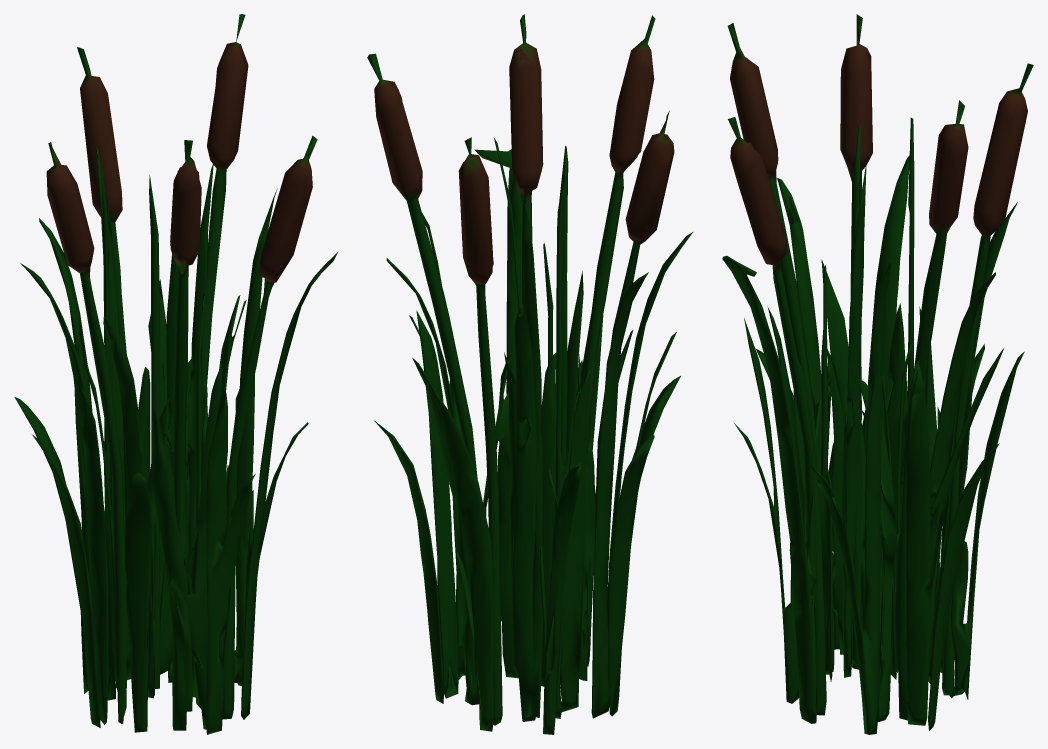
File: gen3d-cattail-lod0.glb
3 views of the same model, side by side, from view 1: azimuth 30°, elevation 25°; view 2: azimuth 150°, elevation 25°; view 3: azimuth 270°, elevation 25° (orthographic). The views are drawn at different scales.
Visible parts, largest first — view 1: part_0; view 2: part_0; view 3: part_0.
Part boxes in pixels (x1,y1,x2,y2): part_0: (14, 14, 338, 734); part_0: (367, 14, 692, 734); part_0: (722, 14, 1033, 734).
Bounding box in the file's own units: 0.4124 × 0.998 × 0.43.
